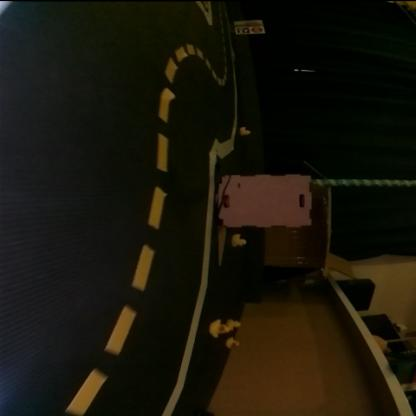Duckie: (211, 318, 230, 338), (233, 234, 246, 246), (229, 340, 239, 348), (230, 320, 240, 327), (242, 128, 249, 134)
QR code: (238, 27, 250, 33)
Stop sign: (252, 27, 264, 33)
